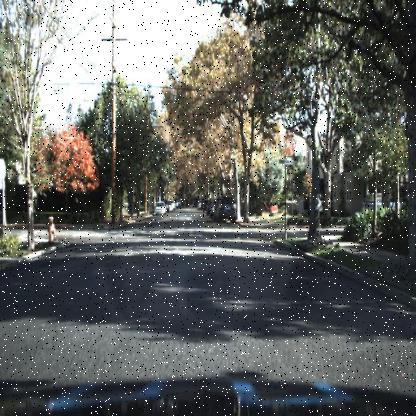car: (214, 192, 240, 224), (155, 200, 167, 218)
